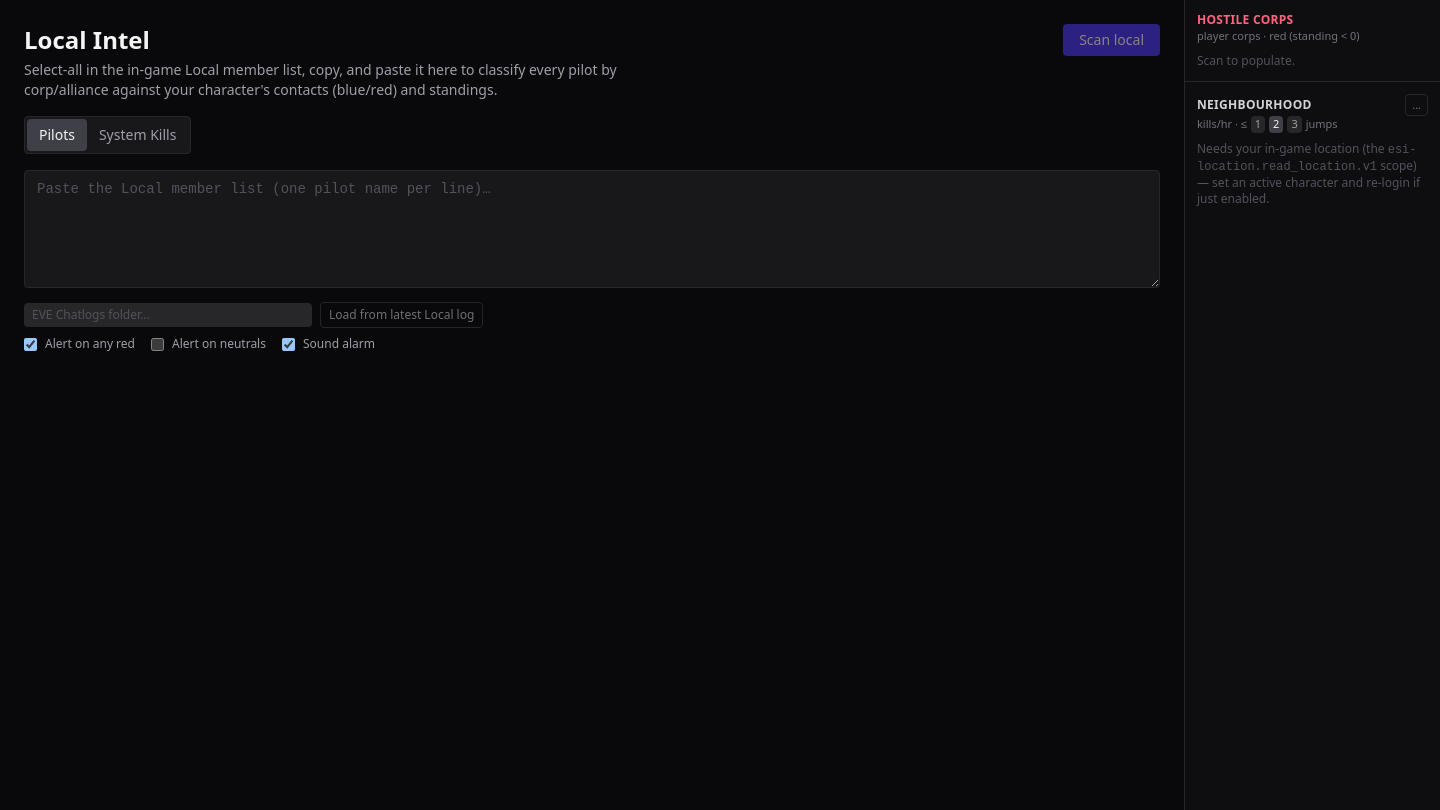
Test: LocalIntelPage › shows the scan failure message
Type "Chribba" into the text box with placeholder "Paste the Local member list (one pilot name per line)…" at [592, 229], box [24,170,1160,288]
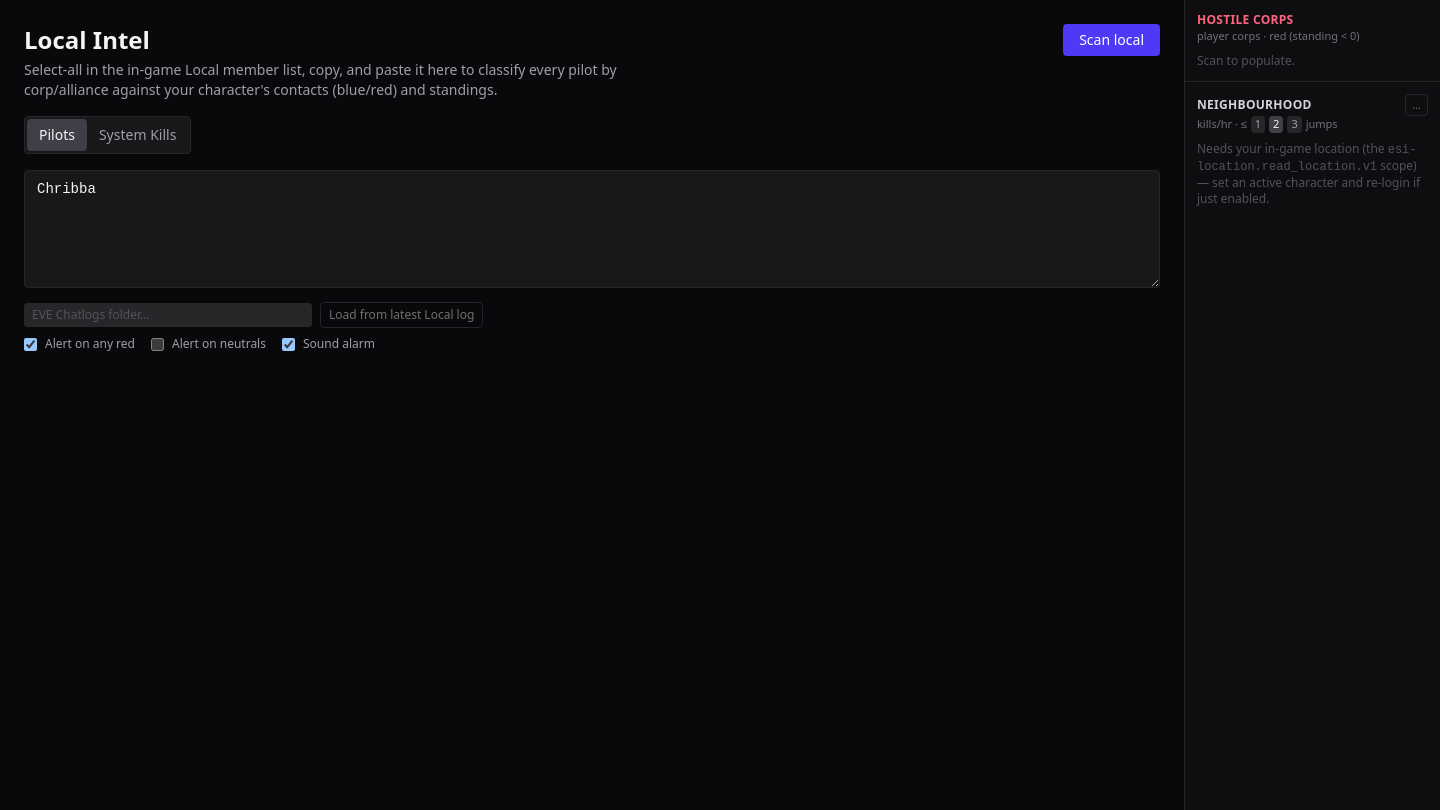
Click the button "Scan local" at [1112, 40], box [1063,24,1160,56]
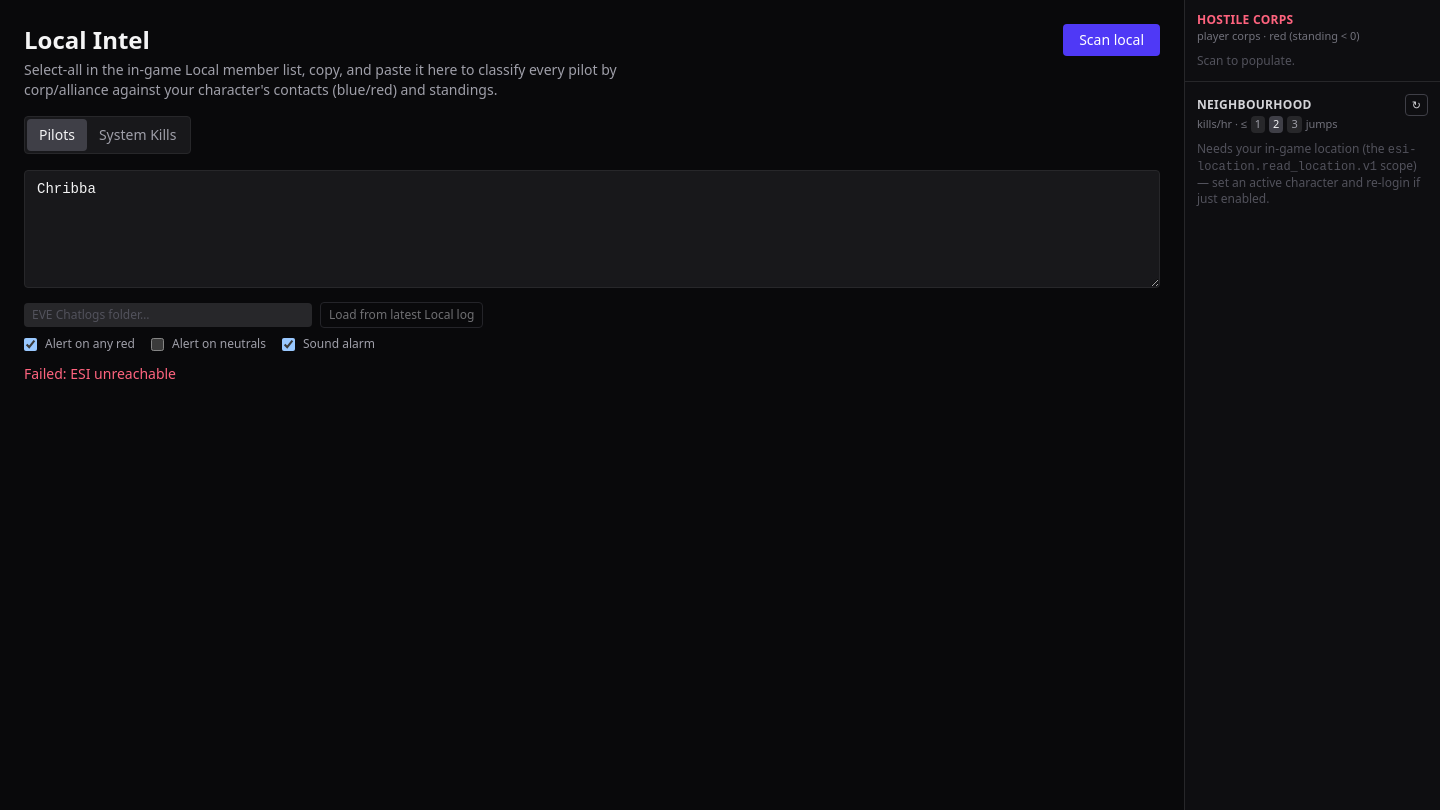
Check: the text "Failed: ESI unreachable" is shown, box [24,364,176,383]
